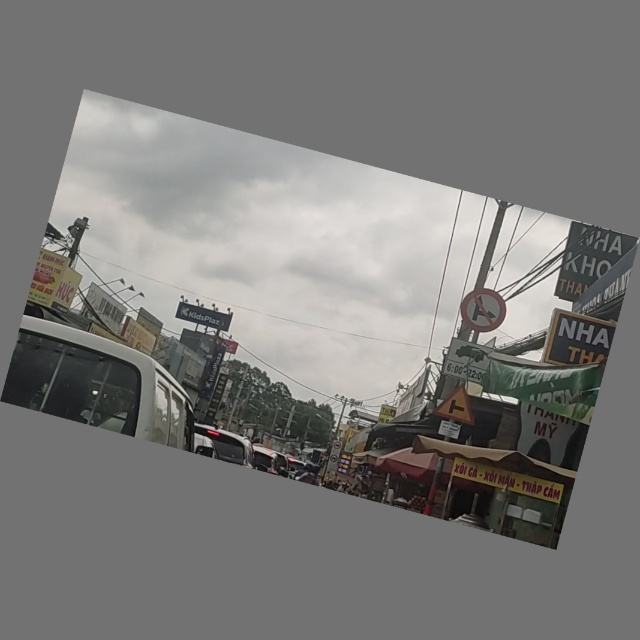P.139: (457, 285, 509, 335)
S.505a*Xe tai: (442, 340, 497, 385)
W.205b: (433, 381, 482, 426)
